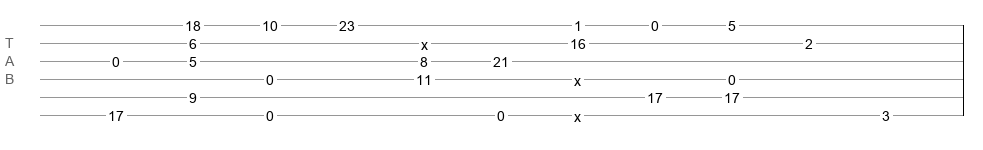0: (112, 54, 120, 64), (266, 108, 274, 118), (266, 72, 274, 82), (497, 108, 505, 118), (651, 18, 659, 28), (728, 72, 736, 82)
1: (574, 18, 582, 28)
10: (262, 18, 278, 28)
11: (416, 72, 432, 82)
16: (570, 36, 586, 46)
17: (108, 108, 124, 118), (647, 90, 663, 100), (724, 90, 740, 100)
18: (185, 18, 201, 28)
2: (805, 36, 813, 46)
21: (493, 54, 509, 64)
23: (339, 18, 355, 28)
3: (882, 108, 890, 118)
5: (189, 54, 197, 64), (728, 18, 736, 28)
6: (189, 36, 197, 46)
8: (420, 54, 428, 64)
9: (189, 90, 197, 100)
x: (421, 37, 428, 45), (574, 109, 581, 117), (574, 73, 581, 81)
